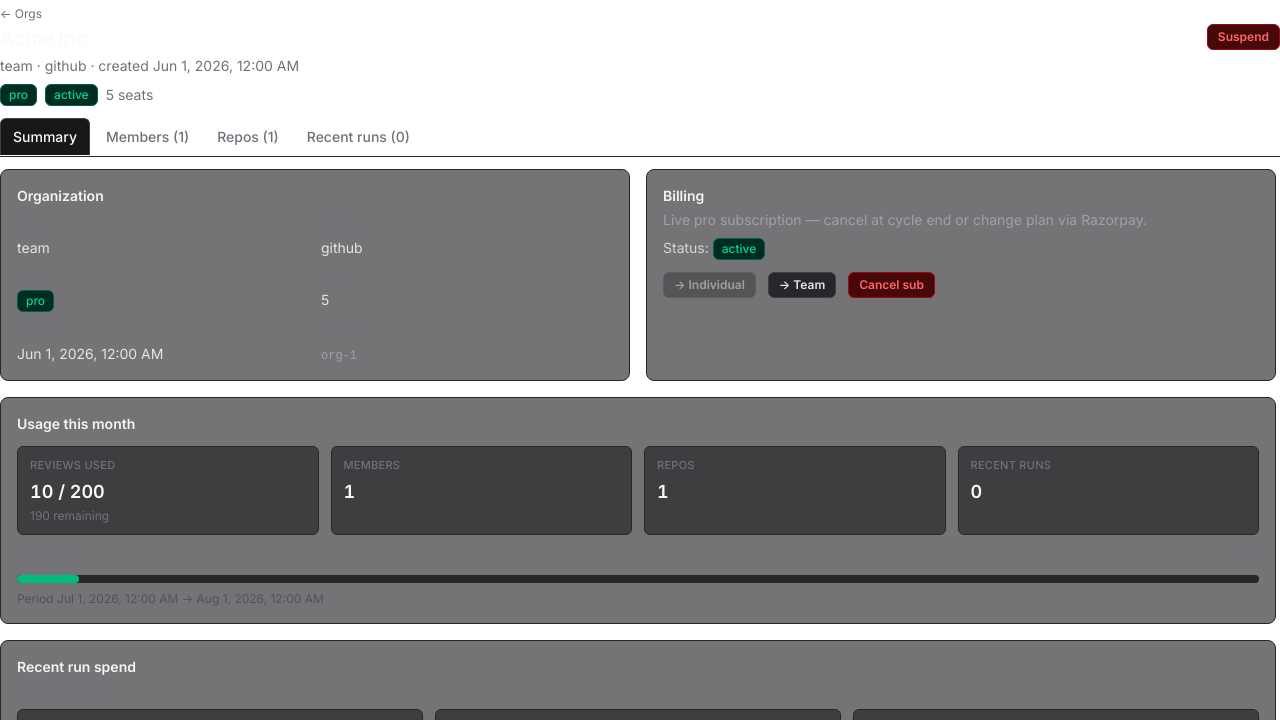
Test case: OrgDetail page › shows the members list on the Members tab
The width and height of the screenshot is (1280, 720).
Click the tab "Members (1)": click(148, 136) [94,118,201,155]
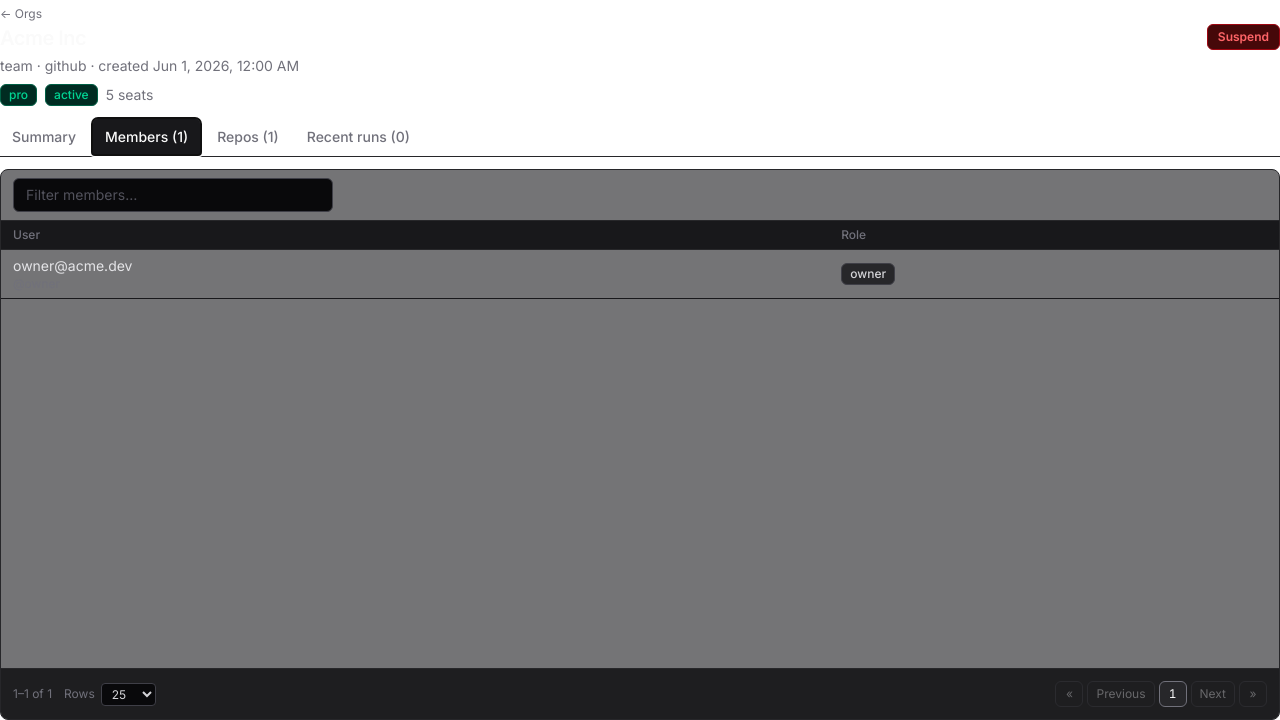
Expected: the text "owner@acme.dev" is shown, [13,257,132,274]
Expected: the text "owner" is shown, [841,263,895,285]
